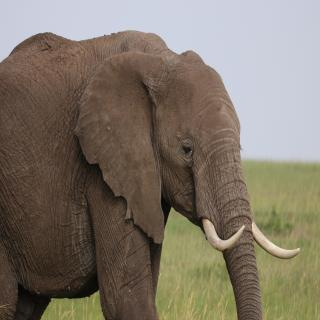Elephant: (0, 28, 302, 320)
